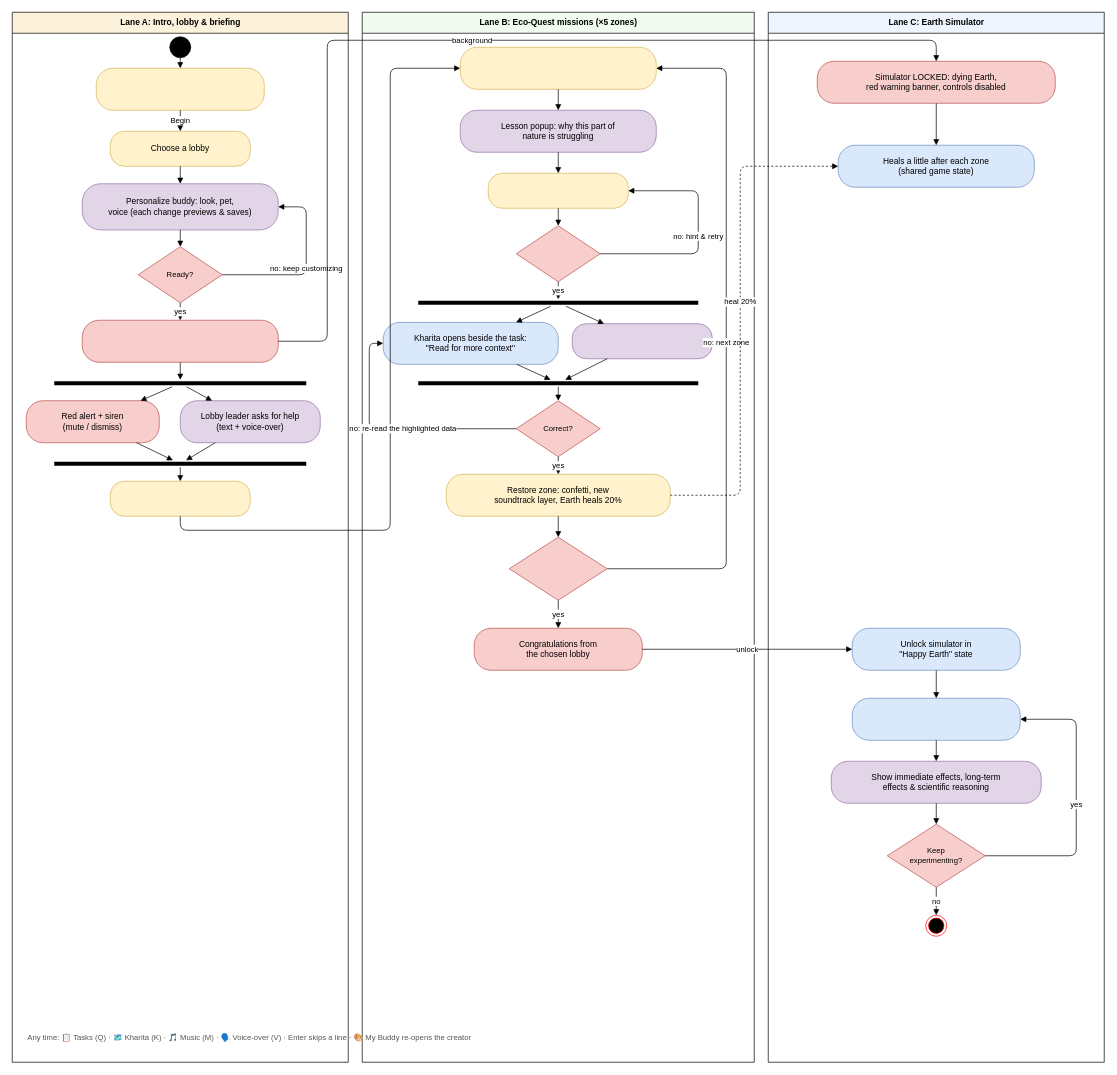
The diagram is 1117 pixels wide and 1075 high, and some of its shapes have lost their labels. The centre of each missing label's shape, as x and y in pixels:
Accept the mission: [180,498]
Adjust CO₂, CH₄, O₂, temperature, year or grid: [936,719]
All 5 zones restored?: [558,568]
Field check question: [642,341]
Join lobby → simulator shown in critical state behind briefing: [180,341]
Landing: project introduction (Kharita · Game · Simulator): [180,89]
Solve the zone puzzle: [558,190]
Solved?: [558,253]
Walk to a zone (mission panel shows the next objective): [558,68]
